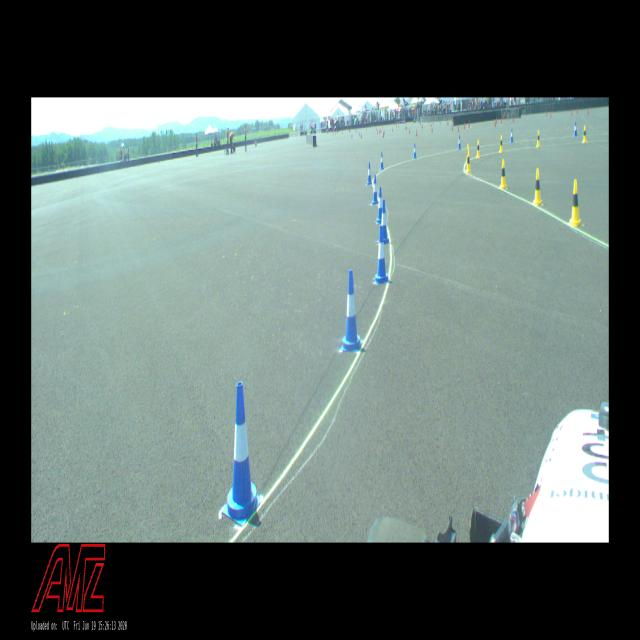blue_cone: (222, 380, 263, 526), (340, 270, 363, 351), (375, 226, 389, 283), (381, 200, 389, 243), (377, 186, 382, 224), (372, 174, 378, 204), (367, 161, 372, 185), (509, 128, 514, 143), (380, 152, 384, 170), (573, 122, 578, 136), (413, 143, 417, 159), (458, 135, 462, 150)
yellow_cone: (569, 179, 582, 227), (533, 168, 542, 206), (500, 159, 508, 190), (466, 150, 471, 173), (536, 130, 541, 148), (582, 125, 587, 143), (476, 139, 480, 158), (499, 134, 503, 152), (466, 144, 469, 164)
